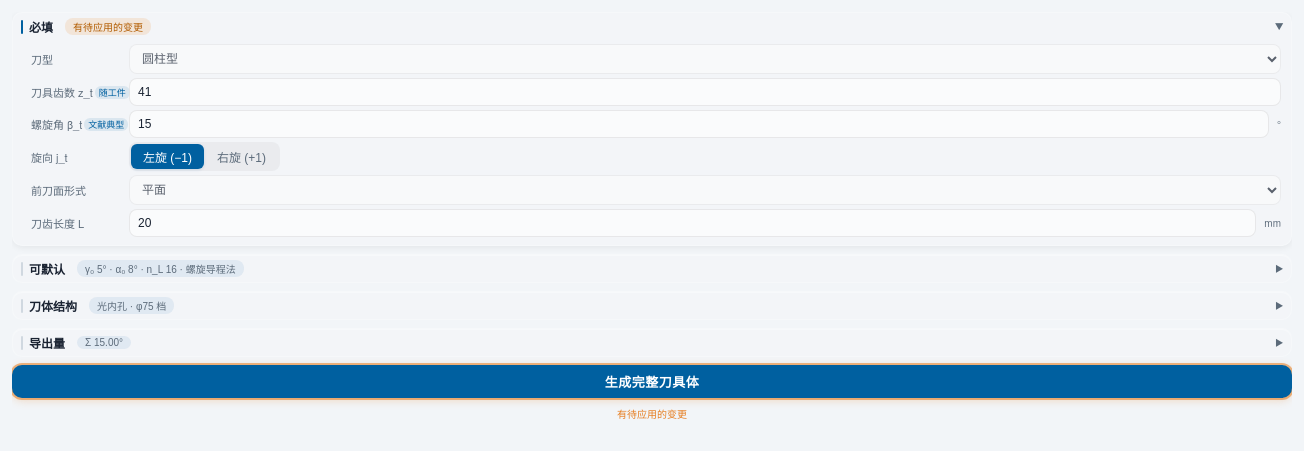
Test: ToolSolidPanel — 校验联动（PRD §5.2） › 硬非法（L≤0）：红错即时可见（无需 blur）、按钮禁用
This screenshot has width=1304, height=451.
Replace the text in the number field next to "mm" with "0" at (693, 223), box x1=129 y1=209 x2=1256 y2=237
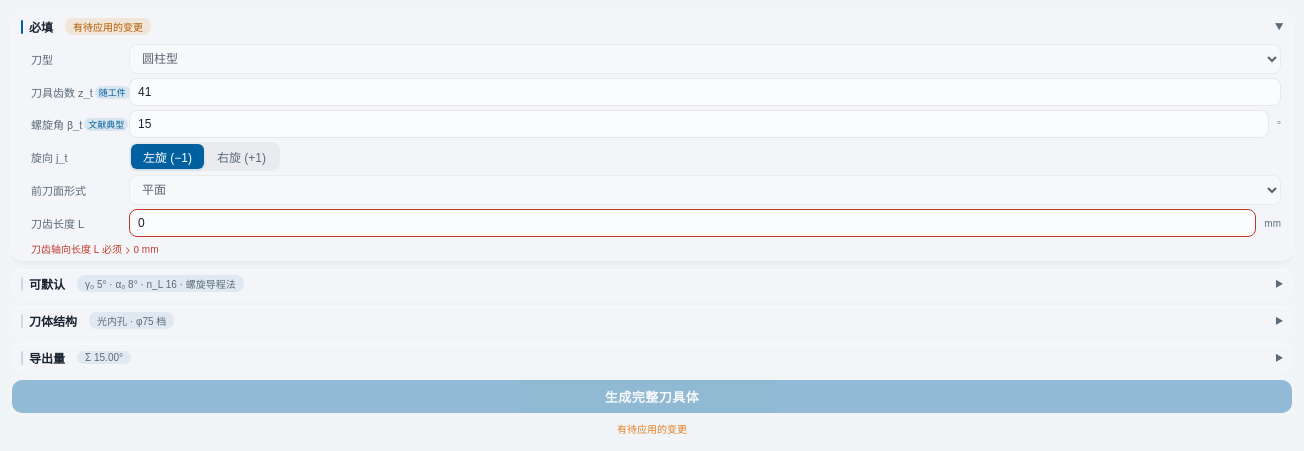
Now the text "刀齿轴向长度 L 必须 > 0 mm" is shown, box x1=31 y1=242 x2=158 y2=256
Now the button with test id "generate-tool-ring" is disabled, box x1=12 y1=380 x2=1292 y2=413
